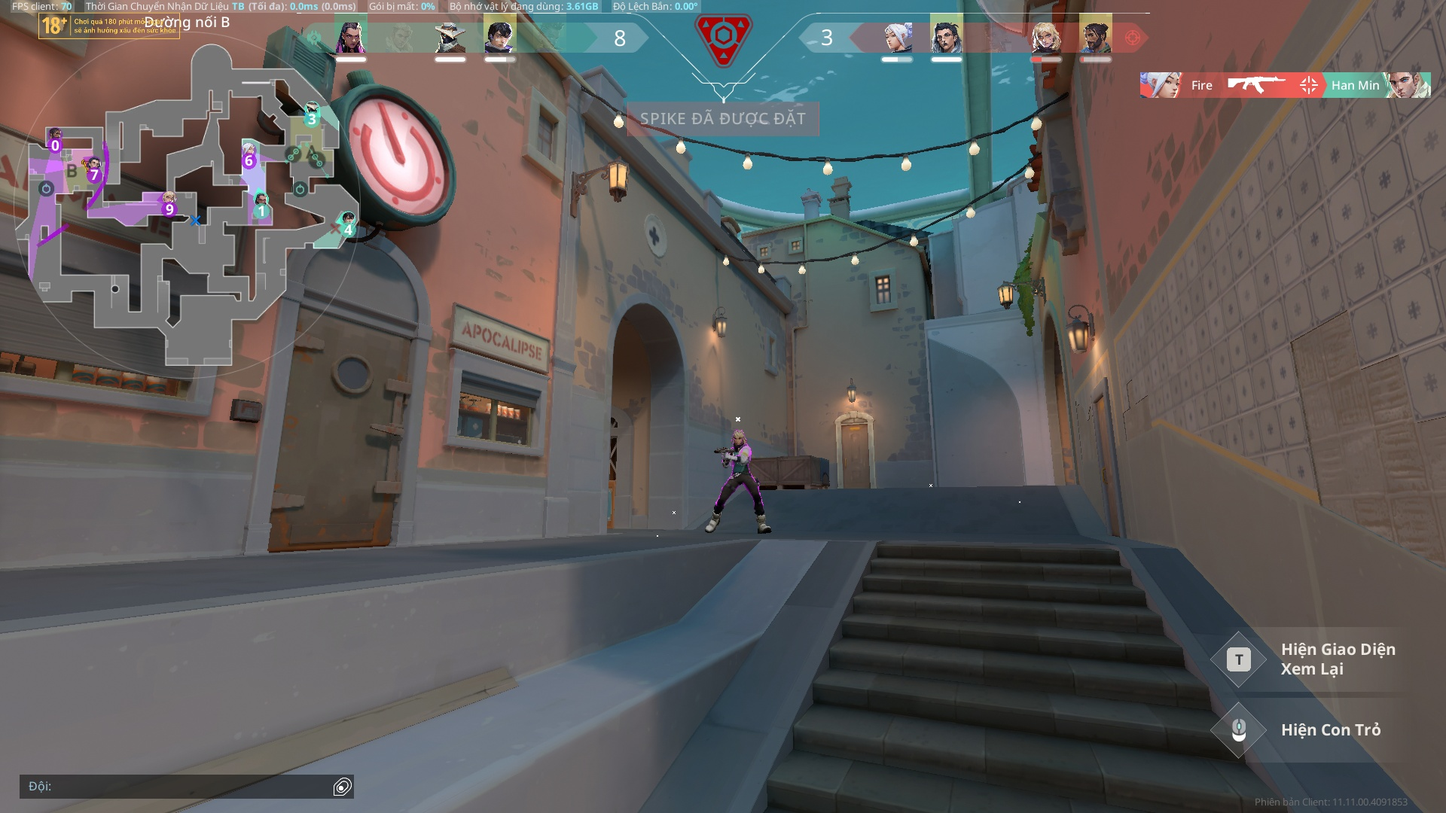body: (728, 444, 753, 473)
head: (731, 429, 747, 443)
